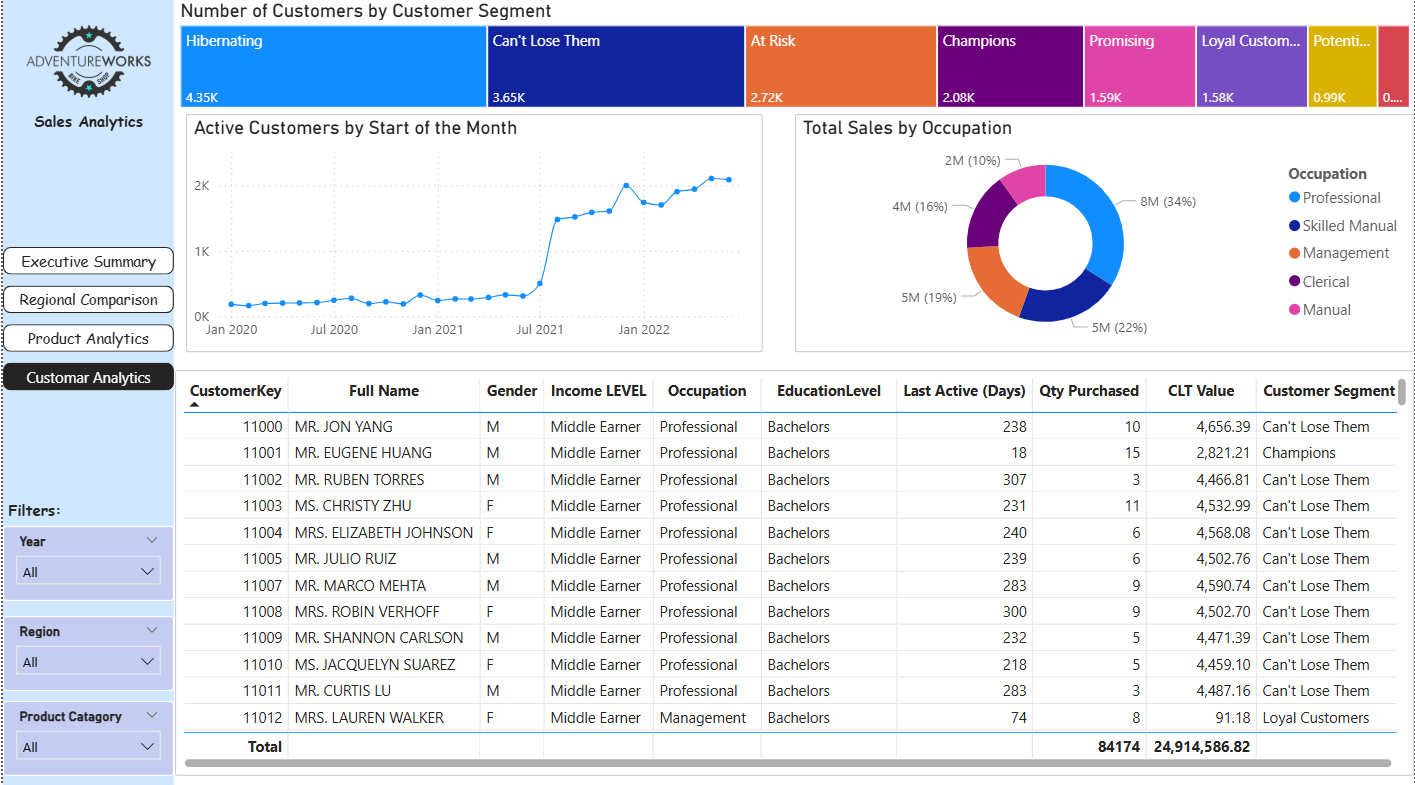

The dashboard page shown, as its layout file describes it:
{"tool":"powerbi","page":{"name":"Customar Analytics","canvas":[1280,720],"ordinal":3},"visuals":[{"type":"shape","box":[0,0,155.1,720],"z":0},{"type":"textbox","box":[12.7,99.7,129.7,39.9],"z":1000},{"type":"image","box":[0,20.9,155.1,78.9],"z":2000},{"type":"slicer","fields":{"Values":["Dim_Date.Year"]},"box":[0,481.4,155.1,68],"z":3000},{"type":"slicer","fields":{"Values":["Dim_Territory.Region"]},"box":[0,563,155.1,68],"z":4000},{"type":"slicer","fields":{"Values":["Dim_Product Categories.CategoryName"]},"box":[0,640.1,155.1,68],"z":5000},{"type":"textbox","box":[0,452.5,129.7,29],"z":6000},{"type":"pageNavigator","box":[0,228.5,155.1,131.5],"z":7000},{"type":"treemap","fields":{"Values":["Count(RFM Table.CustomerKey)"],"Group":["RFM Table.Customer Segment"]},"box":[155.8,3.7,1124.6,103.5],"z":8000},{"type":"tableEx","fields":{"Values":["RFM Table.CustomerKey","Dim_Customer.Full Name","Dim_Customer.Gender","Dim_Customer.Income LEVEL","Dim_Customer.Occupation","Dim_Customer.EducationLevel","Sum(RFM Table.R Value)","Sum(RFM Table.F Value)","Sum(RFM Table.M Value)","RFM Table.Customer Segment"]},"box":[155.6,340,1124.4,367.8],"z":9000},{"type":"lineChart","fields":{"Category":["Dim_Date.Start of the Month"],"Y":["_Dax Measure.# of Customers who Purchased"]},"box":[165.6,107.8,523.3,215.6],"z":10000},{"type":"donutChart","fields":{"Category":["Dim_Customer.Occupation"],"Y":["_Dax Measure.Total Sales"]},"box":[717.8,107.8,562.2,215.6],"z":11000}]}

Visuals, with their boxes on the page's 1280x720 design canvas (x1, y1, x2, y2). These are canvas units, not pixel positions in the 1415x785 screenshot, which may show the page scaled, cropped or inside an application window:
shape: region(0, 0, 155, 720)
textbox: region(13, 100, 142, 140)
image: region(0, 21, 155, 100)
slicer - Dim_Date.Year: region(0, 481, 155, 549)
slicer - Dim_Territory.Region: region(0, 563, 155, 631)
slicer - Dim_Product Categories.CategoryName: region(0, 640, 155, 708)
textbox: region(0, 452, 130, 482)
pageNavigator: region(0, 228, 155, 360)
treemap - Count(RFM Table.CustomerKey) x RFM Table.Customer Segment: region(156, 4, 1280, 107)
tableEx - RFM Table.CustomerKey x Dim_Customer.Full Name: region(156, 340, 1280, 708)
lineChart - Dim_Date.Start of the Month x _Dax Measure.# of Customers who Purchased: region(166, 108, 689, 323)
donutChart - Dim_Customer.Occupation x _Dax Measure.Total Sales: region(718, 108, 1280, 323)
